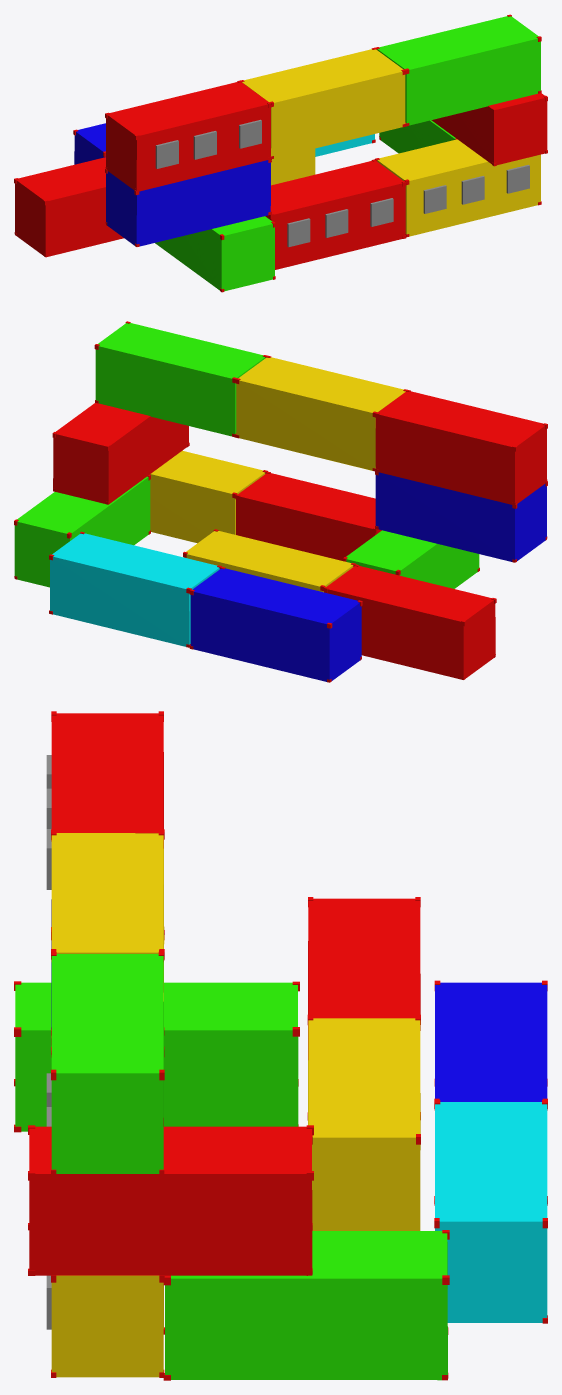
File: ParentPart15FBX.FBX
The picture shows the model from 3 angles, top to bottom: view 1: azimuth 30°, elevation 25°; view 2: azimuth 150°, elevation 25°; view 3: azimuth 270°, elevation 25°; orthographic projection. The views are drawn at different scales.
Parts seen in each view (by area): view 1: ParentPart15; view 2: ParentPart15; view 3: ParentPart15.
Part boxes in pixels (left/top/right/bottom): ParentPart15: left=14, top=14, right=547, bottom=292; ParentPart15: left=14, top=321, right=547, bottom=682; ParentPart15: left=14, top=711, right=547, bottom=1380.
Bounding box in the file's own units: 6.52 × 3.87 × 2.46.
